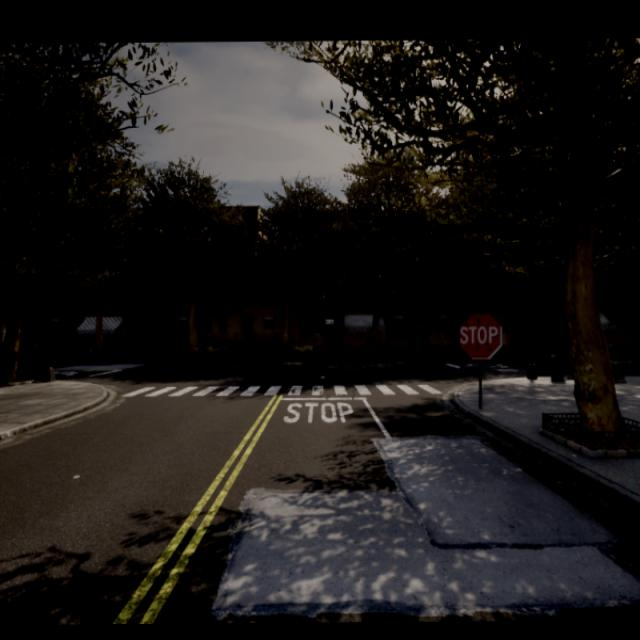stop sign: (456, 309, 504, 363), (458, 323, 498, 346)
